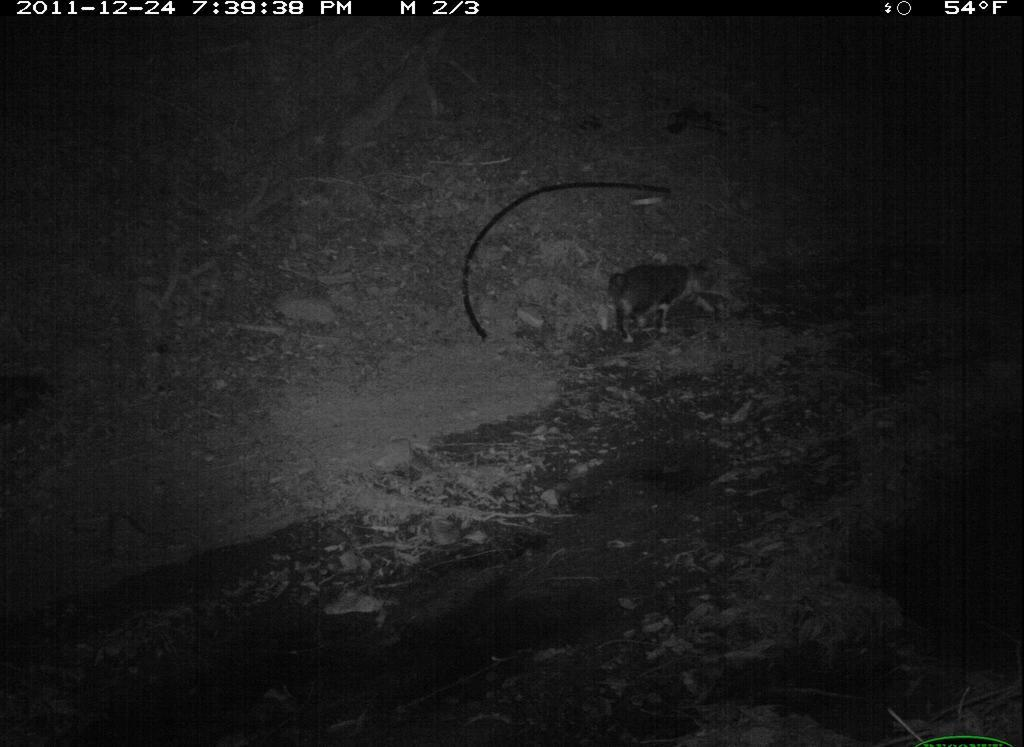cat: (601, 254, 729, 349)
